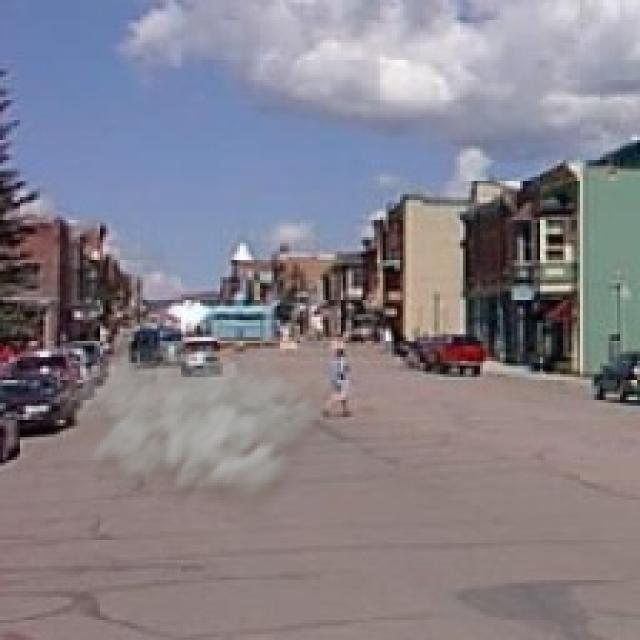Smoke: (52, 328, 334, 528)
